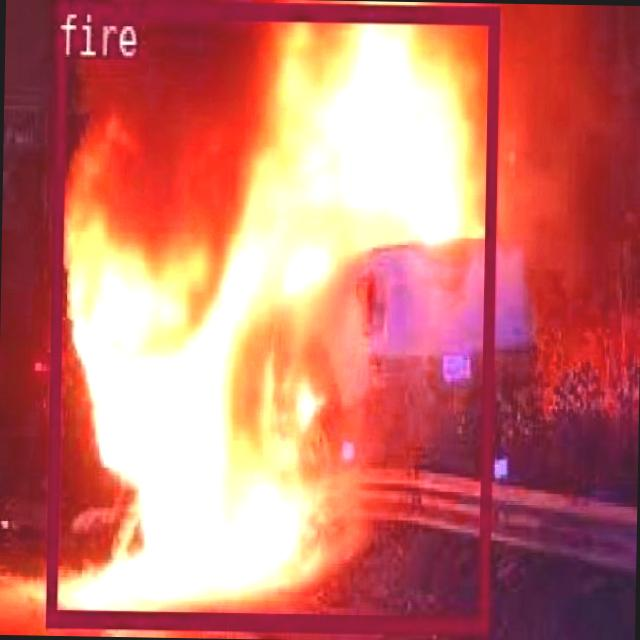fire: (43, 0, 496, 632)
